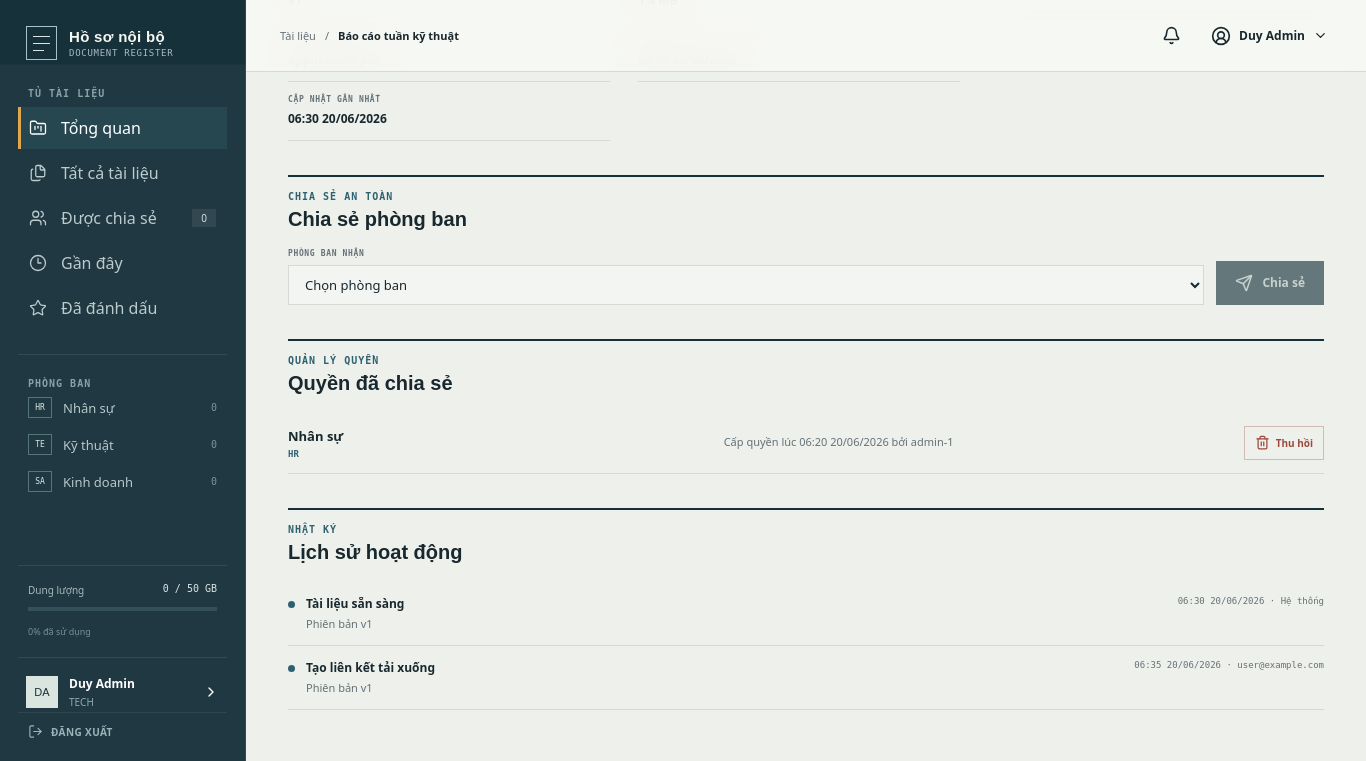
Test: DocumentDetailPage › thu hồi quyền chia sẻ bằng xác nhận trong UI
(page scrolled)
Check: the text "Nhân sự" is shown, box [288, 427, 343, 445]
Click the button "Thu hồi": (1284, 443) [1244, 426, 1324, 460]
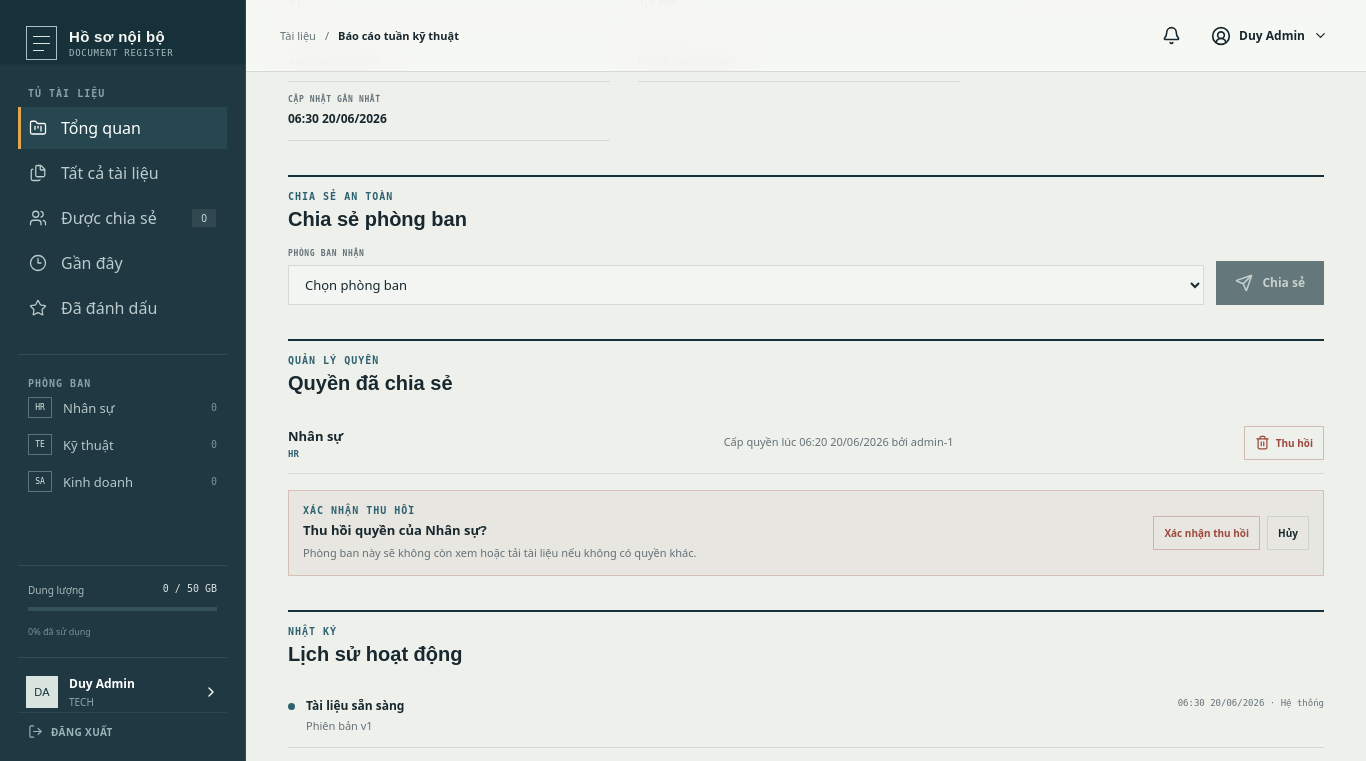
Check: the text "Thu hồi quyền của Nhân sự?" is shown, box [303, 521, 487, 539]
Click the button "Xác nhận thu hồi": (1207, 533) [1153, 516, 1260, 550]
(page scrolled)
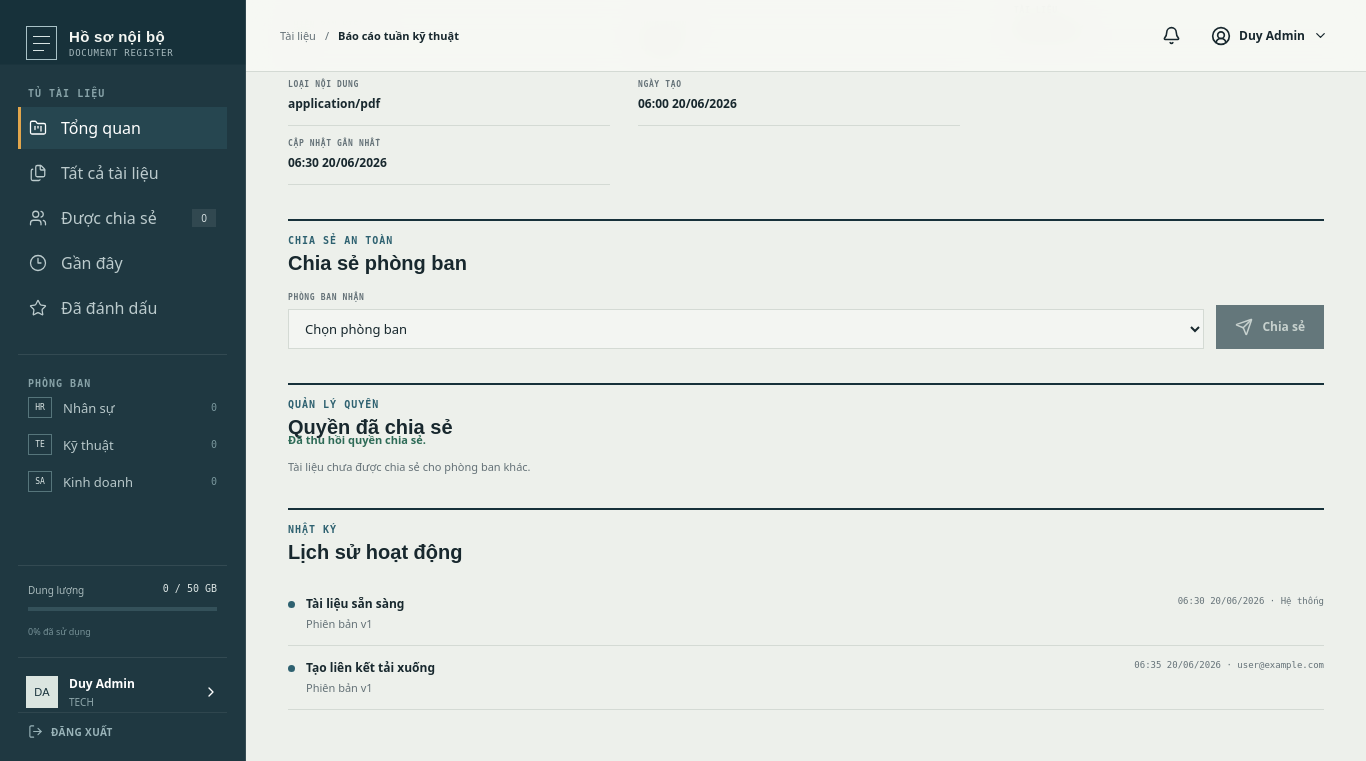
Check: the text "Đã thu hồi quyền chia sẻ." is shown, box [288, 432, 426, 447]
